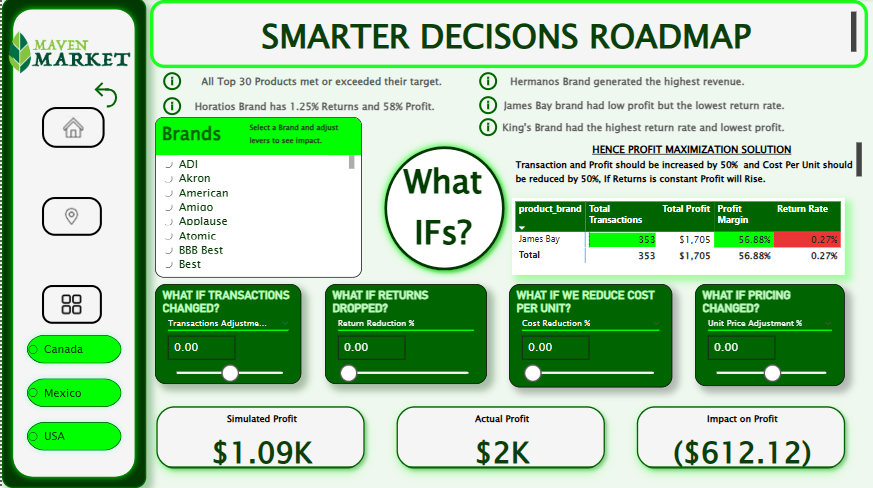

What the dashboard file says about the page in this screenshot:
{"tool":"powerbi","page":{"name":"Smarter Decisions And Reports","canvas":[1280,720],"ordinal":2},"visuals":[{"type":"shape","title":"Activity Pane","box":[0,0,211.6,720],"z":0,"group":"g1"},{"type":"actionButton","box":[59.5,160.9,92.4,60.3],"z":0,"group":"g4"},{"type":"listSlicer","title":"Brands","fields":{"Values":["Products.product_brand"]},"box":[225.3,175.2,303.9,236],"z":0,"group":"g3"},{"type":"shape","box":[551,207.2,198.4,203.8],"z":0,"group":"g5"},{"type":"pivotTable","fields":{"Rows":["Products.product_brand"],"Values":["_MEASURE TABLE.Total Transactions","_MEASURE TABLE.Total Profit","_MEASURE TABLE.Profit Margin %","_MEASURE TABLE.Return Rate"]},"box":[749.4,293.9,489.3,113.1],"z":0},{"type":"slicer","title":"WHAT IF WE REDUCE COST PER UNIT?","fields":{"Values":["Cost Reduction %.Cost Reduction %"]},"box":[745.1,419.9,239.6,152],"z":0,"group":"g2"},{"type":"group","id":"g1","title":"Activity Pane","box":[0,0,211.6,720],"z":1000},{"type":"image","title":"Maven market logo","box":[0,0,196.6,159.1],"z":1000,"group":"g1"},{"type":"textbox","box":[359.4,175.2,159.1,53.6],"z":1000,"group":"g3"},{"type":"textbox","box":[579.2,228.9,137.8,158.8],"z":1000,"group":"g5"},{"type":"actionButton","box":[59,293.1,87.7,56.9],"z":1000,"group":"g4"},{"type":"slicer","title":"WHAT IF TRANSACTIONS CHANGED?","fields":{"Values":["Transactions Adjustments %.Transactions Adjustments %"]},"box":[225.3,420.1,214.5,146.6],"z":1000,"group":"g2"},{"type":"slicer","title":"WHAT IF PRICING CHANGED?","fields":{"Values":["Unit Price Adjustment %.Unit Price Adjustment %"]},"box":[1019,420.1,219.9,150.2],"z":2000,"group":"g2"},{"type":"actionButton","box":[59,422.2,87.7,56.9],"z":2000,"group":"g4"},{"type":"listSlicer","fields":{"Values":["Stores.store_country"]},"box":[20.6,479,171.9,204.2],"z":2000},{"type":"slicer","title":"WHAT IF RETURNS DROPPED?","fields":{"Values":["Return Reduction %.Return Reduction %"]},"box":[474.4,420.1,237.8,146.6],"z":3000,"group":"g2"},{"type":"cardVisual","fields":{"Data":["_MEASURE TABLE.Simulated Profit","_MEASURE TABLE.Total Profit","_MEASURE TABLE.Impact on Profit"]},"box":[198.4,572.1,1069.1,148.4],"z":3000},{"type":"group","id":"g2","title":"What If Parameters","box":[225.3,419.9,1013.6,152],"z":4000},{"type":"textbox","title":"SMARTER DECISONS ROADMAP","box":[218.1,3.6,1054.7,100.1],"z":5000},{"type":"group","id":"g3","title":"Brands slicer","box":[225.3,175.2,303.9,236],"z":6000},{"type":"actionButton","box":[120.5,105.8,64.7,73.5],"z":7000},{"type":"actionButton","box":[232.4,103.7,418.3,35.8],"z":8000},{"type":"textbox","box":[749.4,207.2,518.7,74.9],"z":9000},{"type":"actionButton","box":[697.2,103.7,398.7,35.8],"z":10000},{"type":"actionButton","box":[232.4,141.2,407.6,35.8],"z":11000},{"type":"actionButton","box":[697.2,139.4,457.7,35.8],"z":12000},{"type":"group","id":"g4","title":"ICONS","box":[59,160.9,93,318.2],"z":13000},{"type":"actionButton","box":[697.2,171.6,457.7,35.8],"z":14000},{"type":"group","id":"g5","title":"What IFs","box":[551,207.2,198.4,203.8],"z":15000}]}

Visuals, with their boxes in screenshot pixels (x1, y1, x2, y2), scaled from the page's 1280x720 canvas onto the 873x488 screenshot:
"Activity Pane" shape: [0,0,144,487]
actionButton: [41,109,104,150]
"Brands" listSlicer: [154,119,361,279]
shape: [376,140,511,279]
pivotTable - Products.product_brand x _MEASURE TABLE.Total Transactions: [511,199,845,276]
"WHAT IF WE REDUCE COST PER UNIT?" slicer: [508,285,672,388]
"Activity Pane" group: [0,0,144,487]
"Maven market logo" image: [0,0,134,108]
textbox: [245,119,354,155]
textbox: [395,155,489,263]
actionButton: [40,199,100,237]
"WHAT IF TRANSACTIONS CHANGED?" slicer: [154,285,300,384]
"WHAT IF PRICING CHANGED?" slicer: [695,285,845,387]
actionButton: [40,286,100,325]
listSlicer - Stores.store_country: [14,325,131,463]
"WHAT IF RETURNS DROPPED?" slicer: [324,285,486,384]
cardVisual - _MEASURE TABLE.Simulated Profit x _MEASURE TABLE.Total Profit: [135,388,864,487]
"What If Parameters" group: [154,285,845,388]
"SMARTER DECISONS ROADMAP" textbox: [149,2,868,70]
"Brands slicer" group: [154,119,361,279]
actionButton: [82,72,126,122]
actionButton: [159,70,444,95]
textbox: [511,140,865,191]
actionButton: [476,70,747,95]
actionButton: [159,96,436,120]
actionButton: [476,94,788,119]
"ICONS" group: [40,109,104,325]
actionButton: [476,116,788,141]
"What IFs" group: [376,140,511,279]
